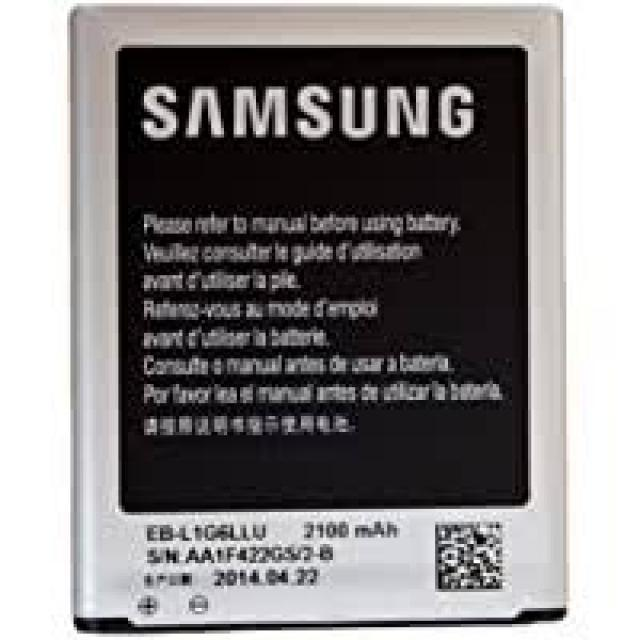battery: (67, 4, 570, 621)
